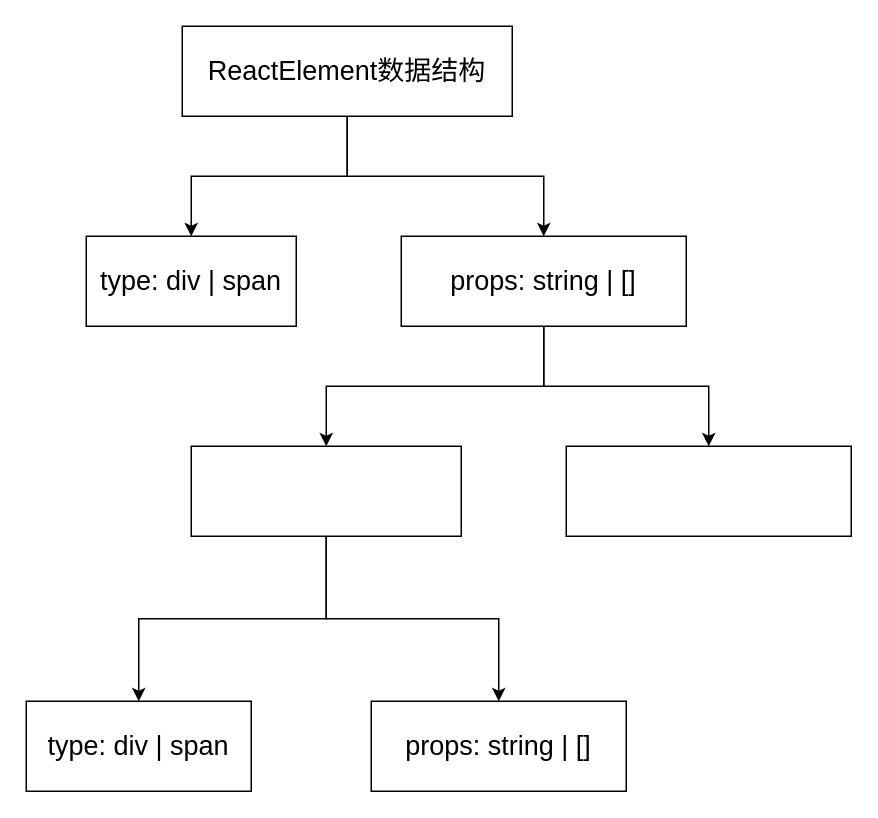
Image size: 878x818. Some labels were removed from this diagram. The shapes that lost their labels are listed below. From the top down, each one's box as (x1, y1, x2, y2) in pixels, then its label:
(190, 445, 461, 536): children: string | []
(565, 445, 851, 536): class | title | id
